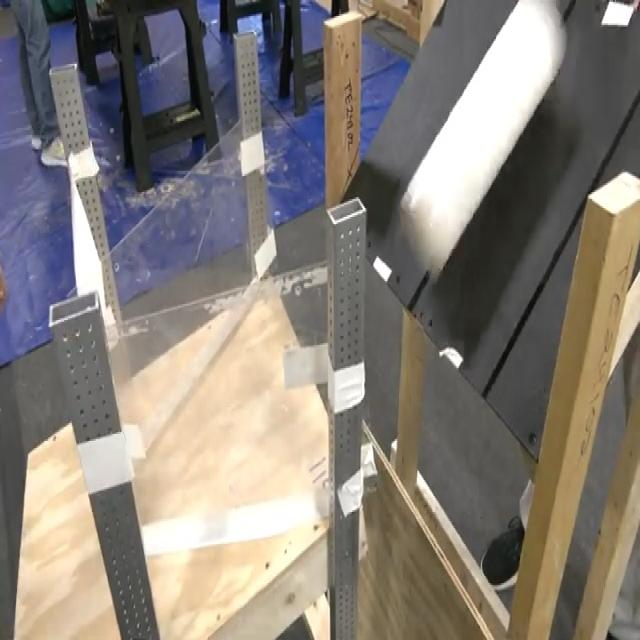Coral: (396, 0, 567, 283)
